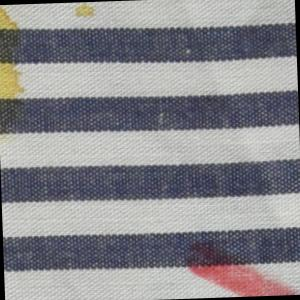Oil Stain: (1, 5, 27, 144), (75, 3, 97, 22)
Stain: (179, 236, 300, 300)
